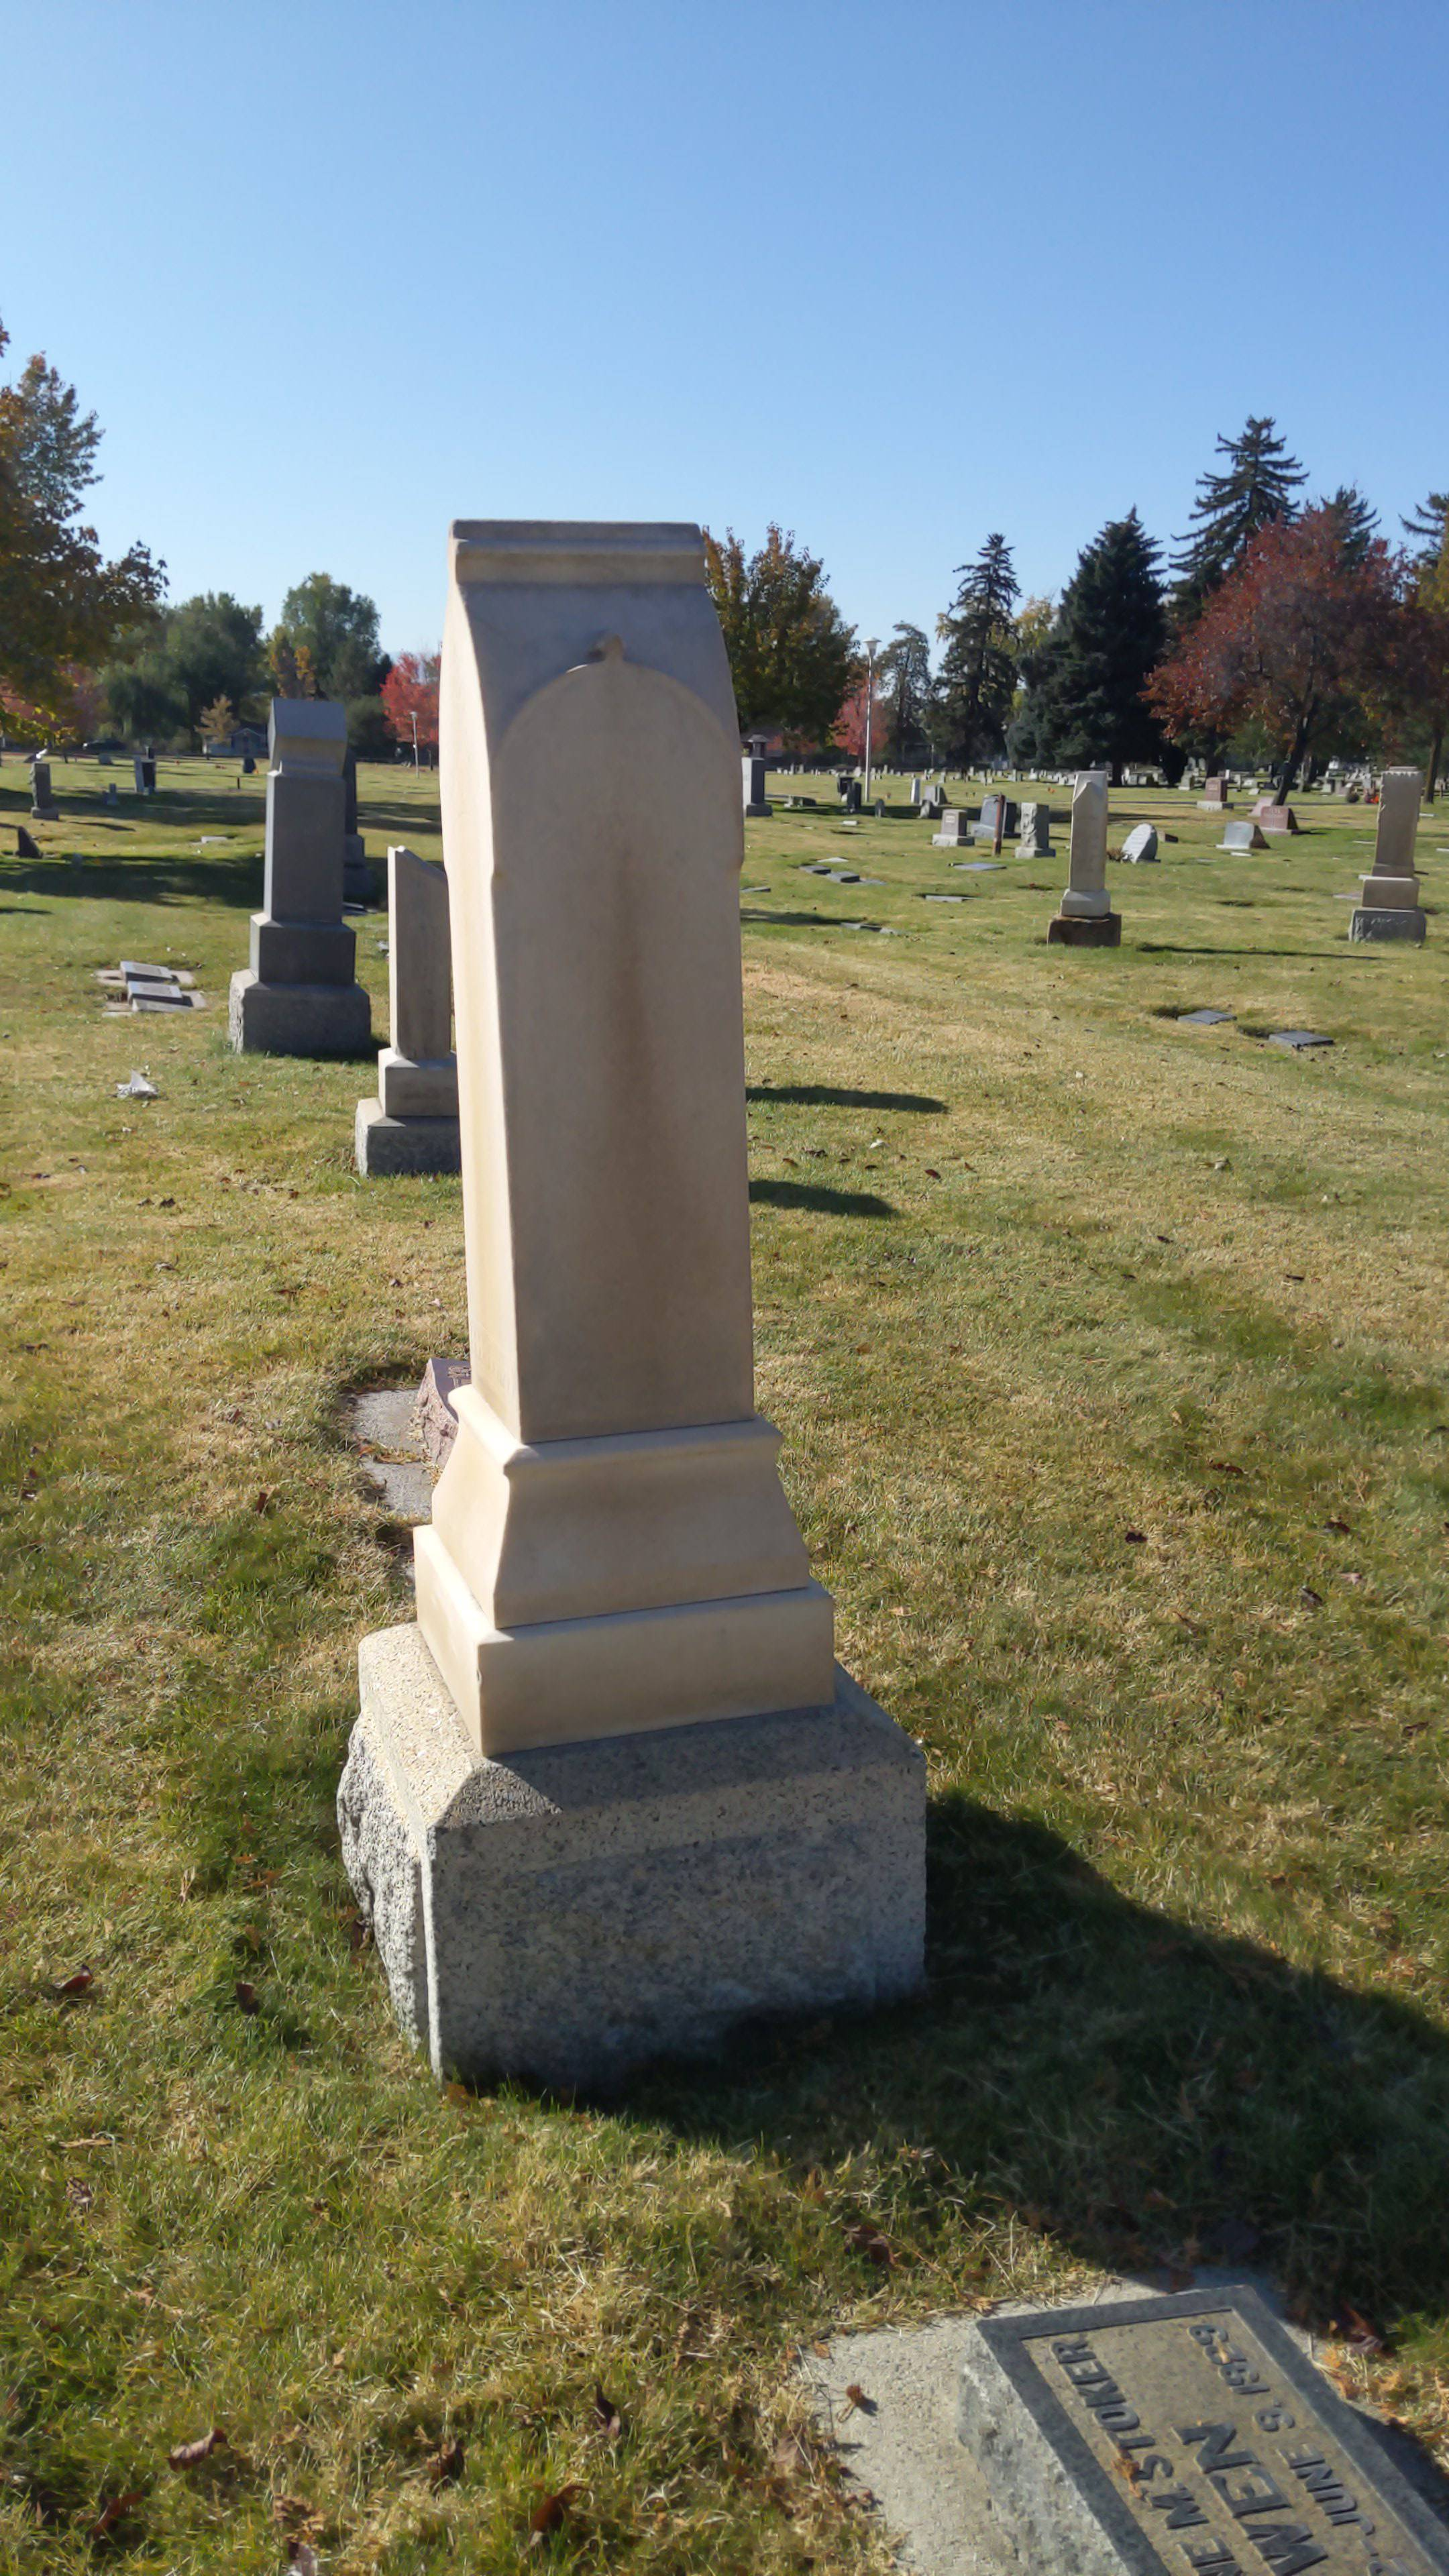obelisk: (395, 529, 830, 1750)
